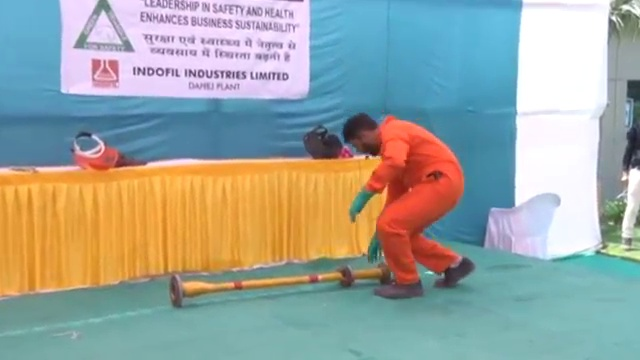helmet_off: (341, 111, 381, 155)
person: (339, 109, 474, 299), (619, 120, 640, 252)
